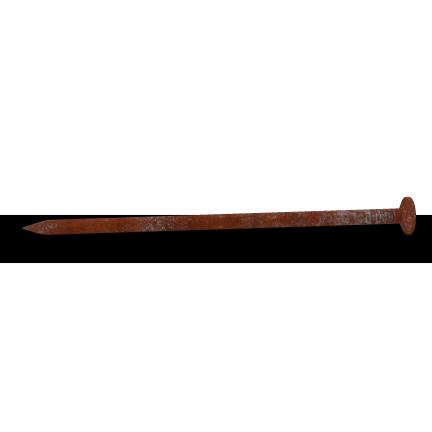karat: (23, 197, 415, 235)
